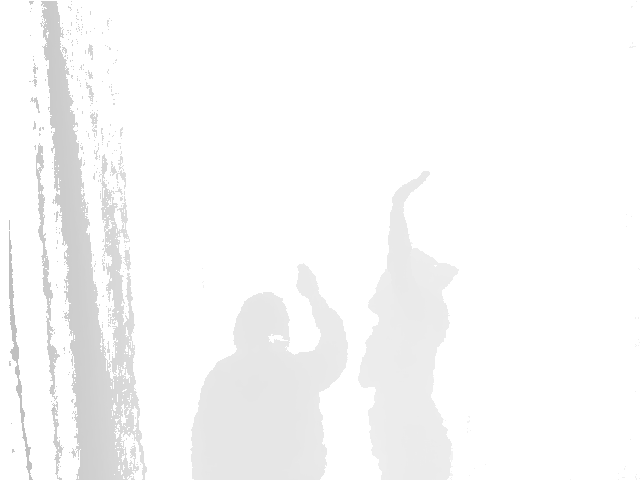hand: (389, 168, 436, 203), (292, 260, 320, 301)
head: (372, 248, 453, 312), (233, 293, 288, 356)
person: (190, 261, 349, 480), (357, 170, 460, 480)
